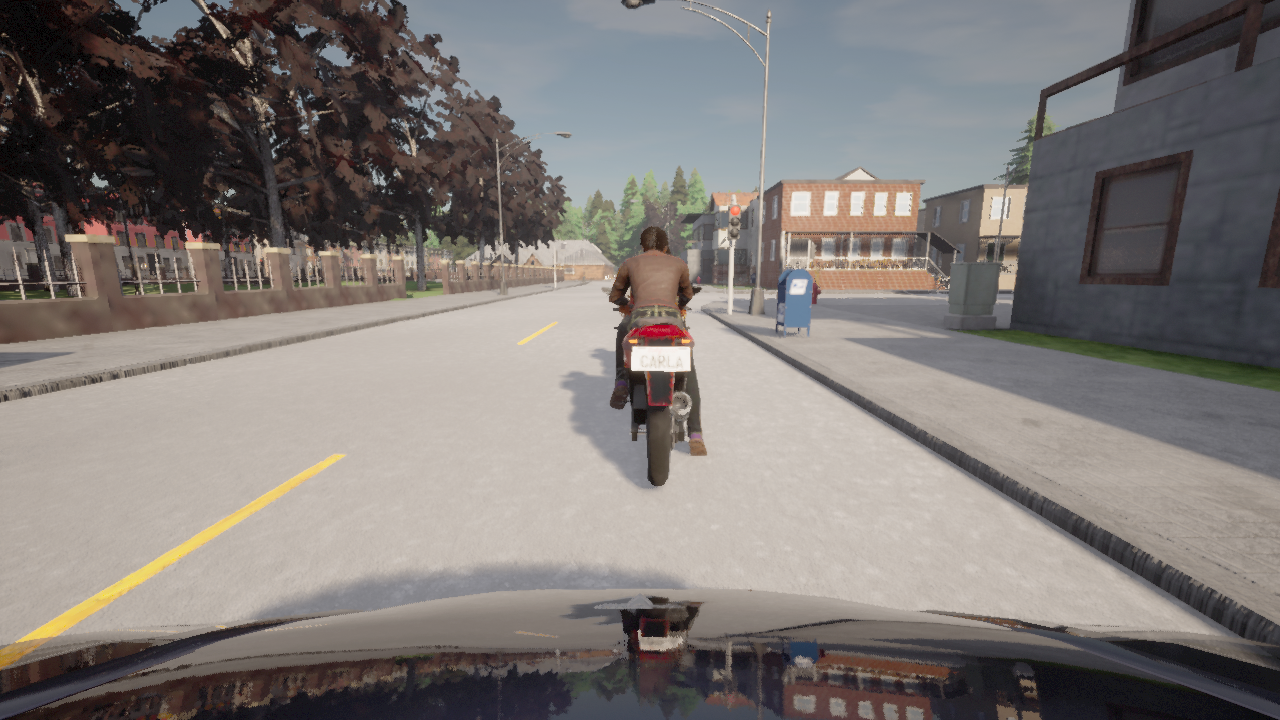cyclist: (0, 588, 1279, 719), (602, 287, 701, 486), (676, 282, 692, 320), (452, 278, 453, 279)
pedestrian: (814, 261, 821, 295)
